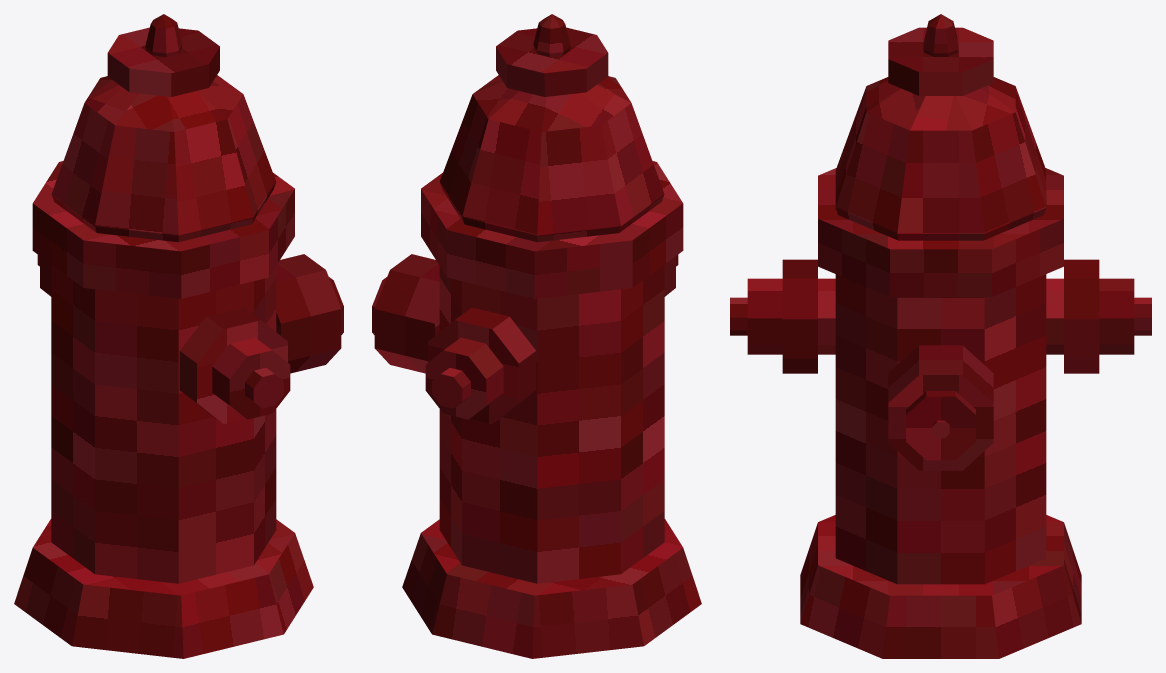
Rendered from Hydrant.fbx.
3 renders of one model, left to right at view 1: azimuth 30°, elevation 25°; view 2: azimuth 150°, elevation 25°; view 3: azimuth 270°, elevation 25°, orthographic.
Visible parts, largest first — view 1: cylinder_1, sphere, cylinder, cylinder_2, cylinder_12, cylinder_3, cylinder_6, cylinder_4, sphere_1, cylinder_5; view 2: cylinder_1, sphere, cylinder, cylinder_2, cylinder_12, cylinder_3, cylinder_8, cylinder_7, sphere_1, cylinder_9; view 3: cylinder_1, sphere, cylinder, cylinder_2, cylinder_12, cylinder_3, cylinder_4, cylinder_7, cylinder_6, cylinder_8, cylinder_11, sphere_1 (+2 smaller).
Boxes of the visible parts, x1=… form: cylinder_1: x1=51, y1=264, x2=276, y2=583; sphere: x1=51, y1=75, x2=276, y2=242; cylinder: x1=14, y1=519, x2=313, y2=658; cylinder_2: x1=32, y1=161, x2=294, y2=298; cylinder_12: x1=276, y1=254, x2=341, y2=373; cylinder_3: x1=107, y1=27, x2=219, y2=96; cylinder_6: x1=179, y1=307, x2=287, y2=423; cylinder_4: x1=212, y1=337, x2=290, y2=419; sphere_1: x1=145, y1=14, x2=182, y2=56; cylinder_5: x1=245, y1=368, x2=283, y2=408; cylinder_1: x1=439, y1=264, x2=664, y2=583; sphere: x1=439, y1=75, x2=664, y2=242; cylinder: x1=402, y1=519, x2=701, y2=658; cylinder_2: x1=421, y1=161, x2=683, y2=298; cylinder_12: x1=374, y1=254, x2=439, y2=373; cylinder_3: x1=496, y1=27, x2=608, y2=96; cylinder_8: x1=428, y1=307, x2=536, y2=423; cylinder_7: x1=425, y1=337, x2=503, y2=419; sphere_1: x1=533, y1=14, x2=570, y2=56; cylinder_9: x1=432, y1=368, x2=470, y2=408; cylinder_1: x1=835, y1=274, x2=1046, y2=584; sphere: x1=835, y1=77, x2=1046, y2=240; cylinder: x1=800, y1=515, x2=1081, y2=658; cylinder_2: x1=818, y1=168, x2=1063, y2=296; cylinder_12: x1=888, y1=345, x2=993, y2=470; cylinder_3: x1=888, y1=27, x2=993, y2=95; cylinder_4: x1=747, y1=278, x2=835, y2=354; cylinder_7: x1=1046, y1=278, x2=1134, y2=354; cylinder_6: x1=782, y1=259, x2=817, y2=373; cylinder_8: x1=1064, y1=259, x2=1099, y2=373; cylinder_11: x1=906, y1=391, x2=975, y2=460; sphere_1: x1=923, y1=14, x2=958, y2=56.
Bounding box in the file's own units: 29.69 × 57.42 × 37.5.
1 material, 1 textured.
